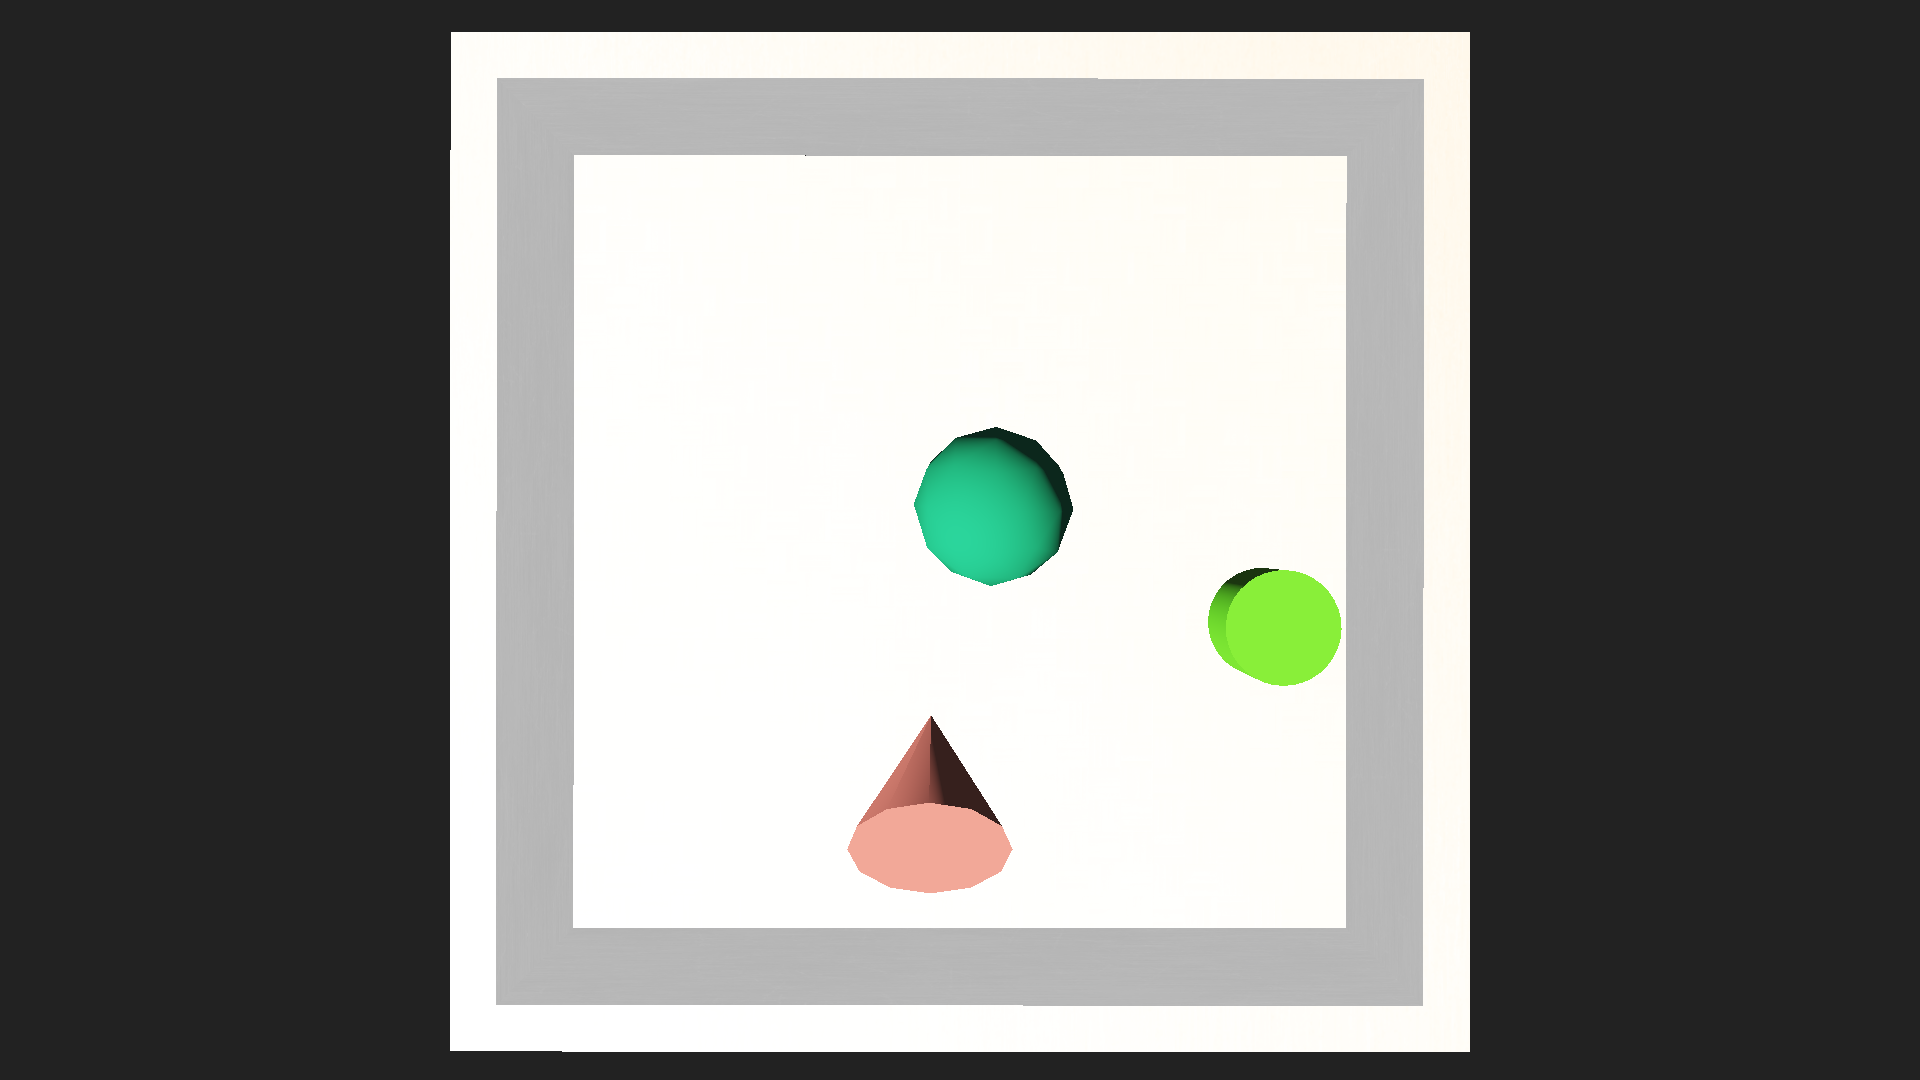cone: (1208, 567, 1341, 684)
cylinder: (852, 665, 1004, 905)
sphere: (914, 426, 1072, 585)
